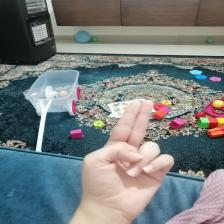one: (83, 98, 178, 210)
